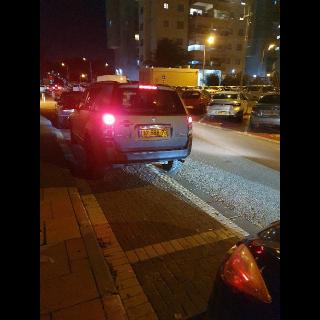LicensePlate: (143, 130, 168, 136)
